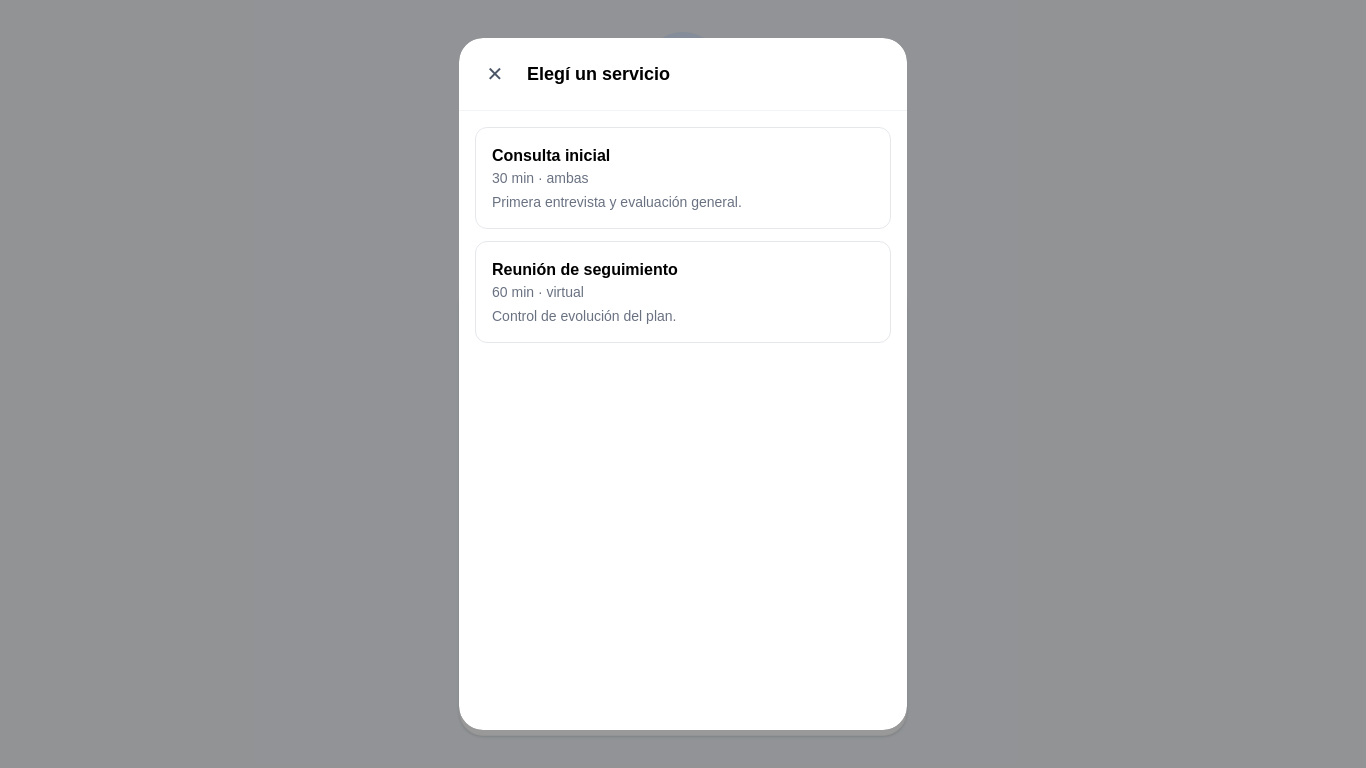
it: AgendaYA - M04 Booking Público › Flujo principal: Permite seleccionar fecha, horario y confirmar reserva
This screenshot has width=1366, height=768.
Expected: the button "Elegí un servicio Cambiar" is shown, [459, 200, 907, 258]
Click the button with test id "service-option" that starts with "Consulta inicial".
click(551, 156)  # box [475, 127, 891, 229]
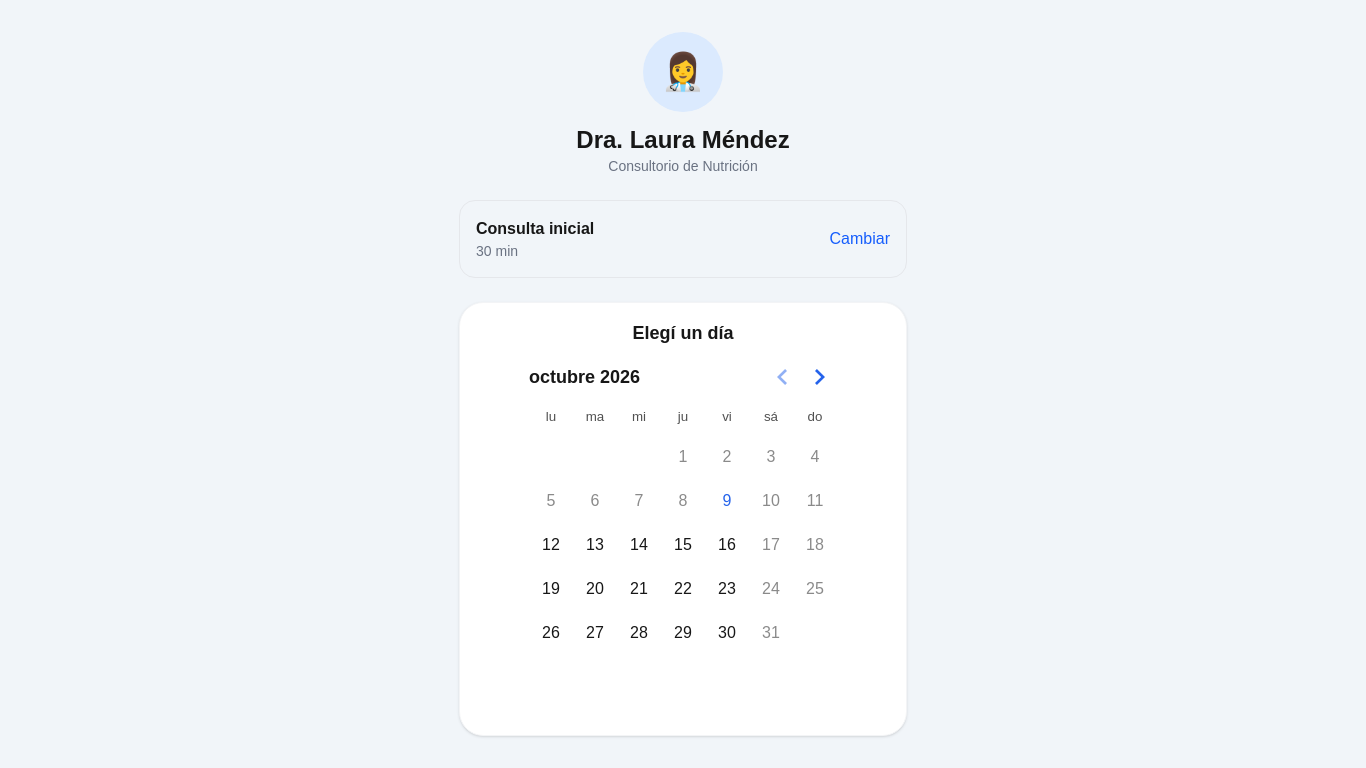
Click the button "13".
click(595, 545)  # box [573, 523, 617, 567]
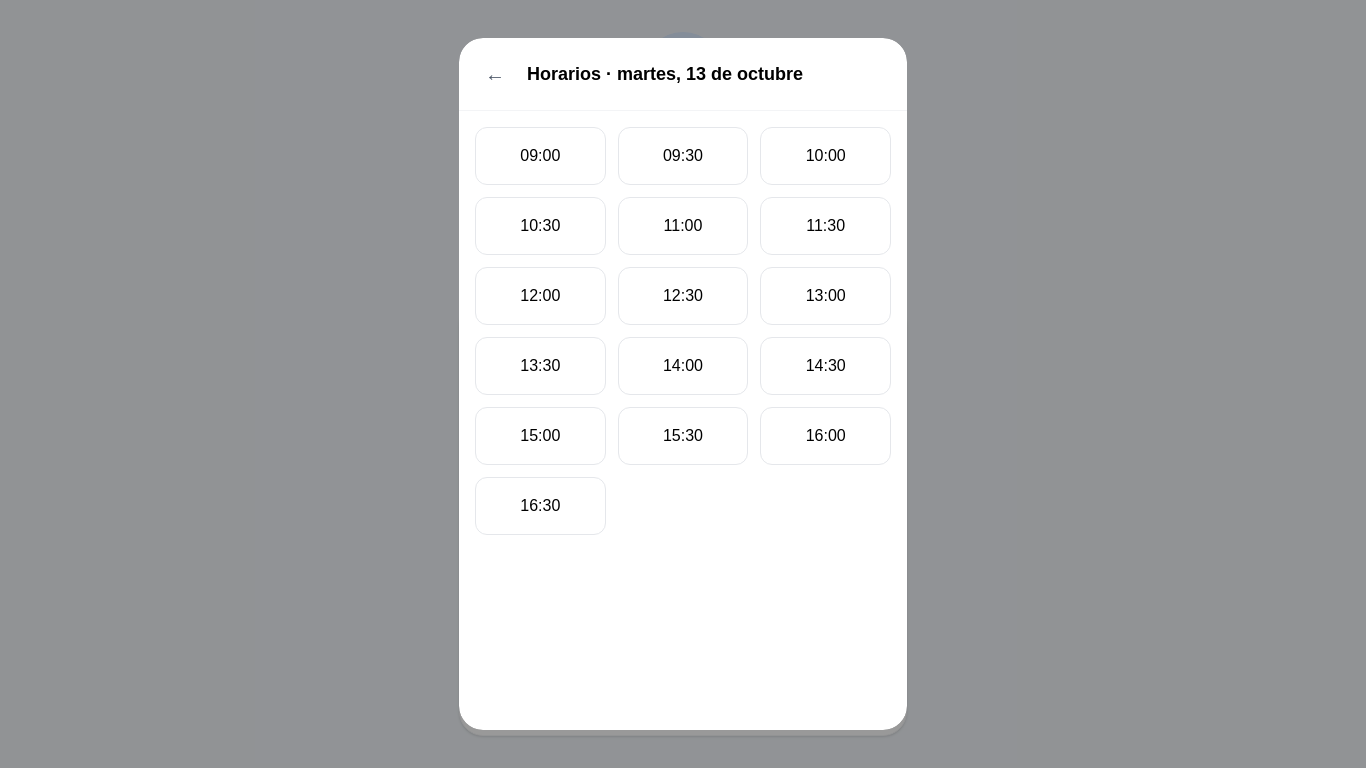
Note: Elegir el primer horario disponible
Click the button with test id "time-slot".
click(541, 156)  # box [475, 127, 606, 185]
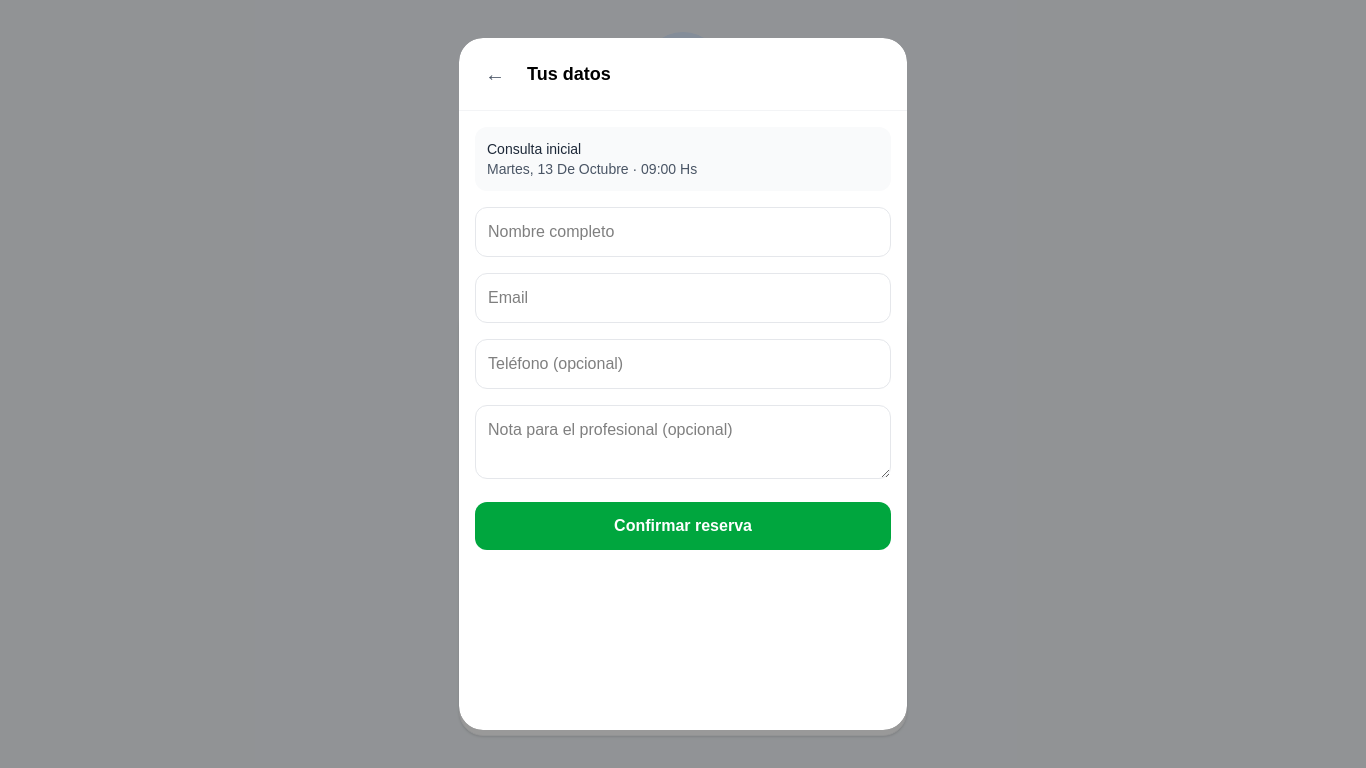
Result: the element with test id "booking-form" is shown at [475, 207, 891, 550]
Type "Carolina Pérez" into the field with test id "name-input".
click(683, 232); type("Carolina Pérez")  # box [475, 207, 891, 257]
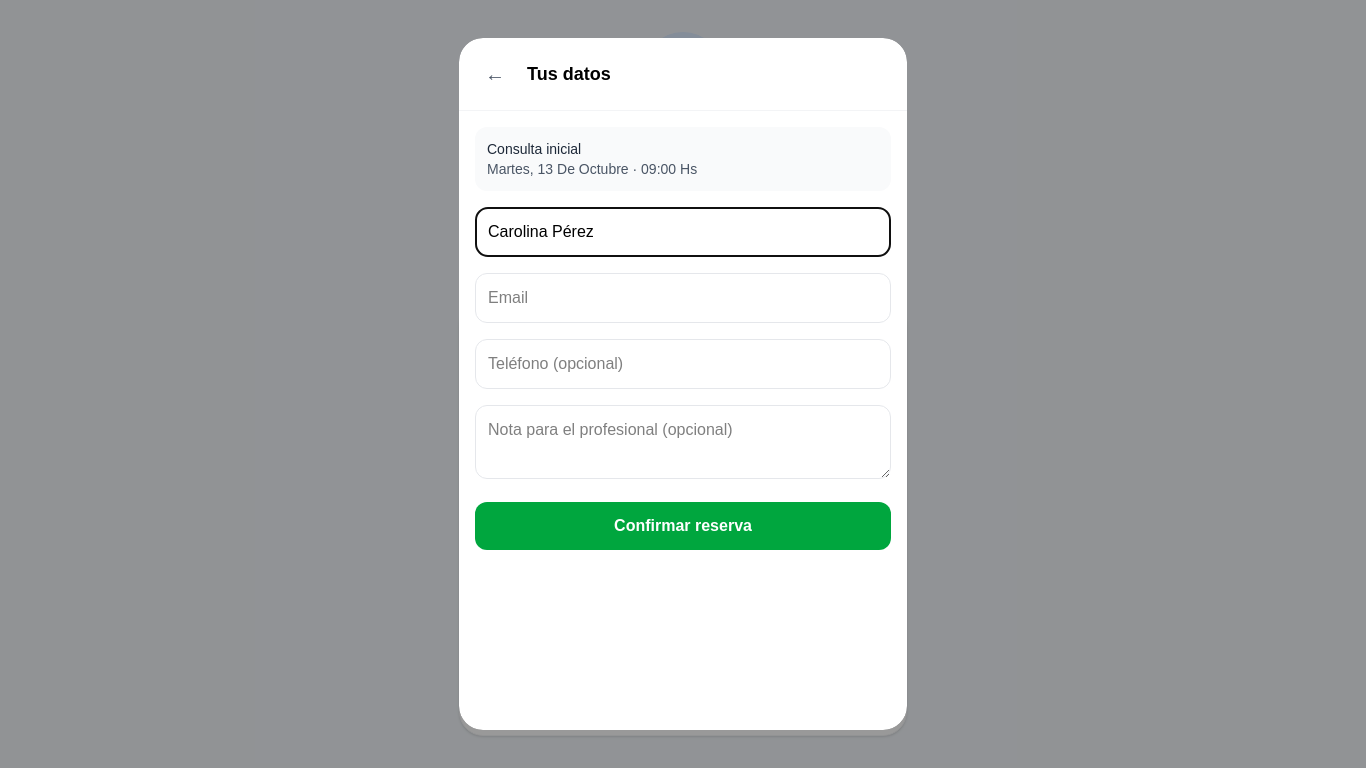
Type "usuario@test.com" into the field with test id "email-input".
click(683, 298); type("usuario@test.com")  # box [475, 273, 891, 323]
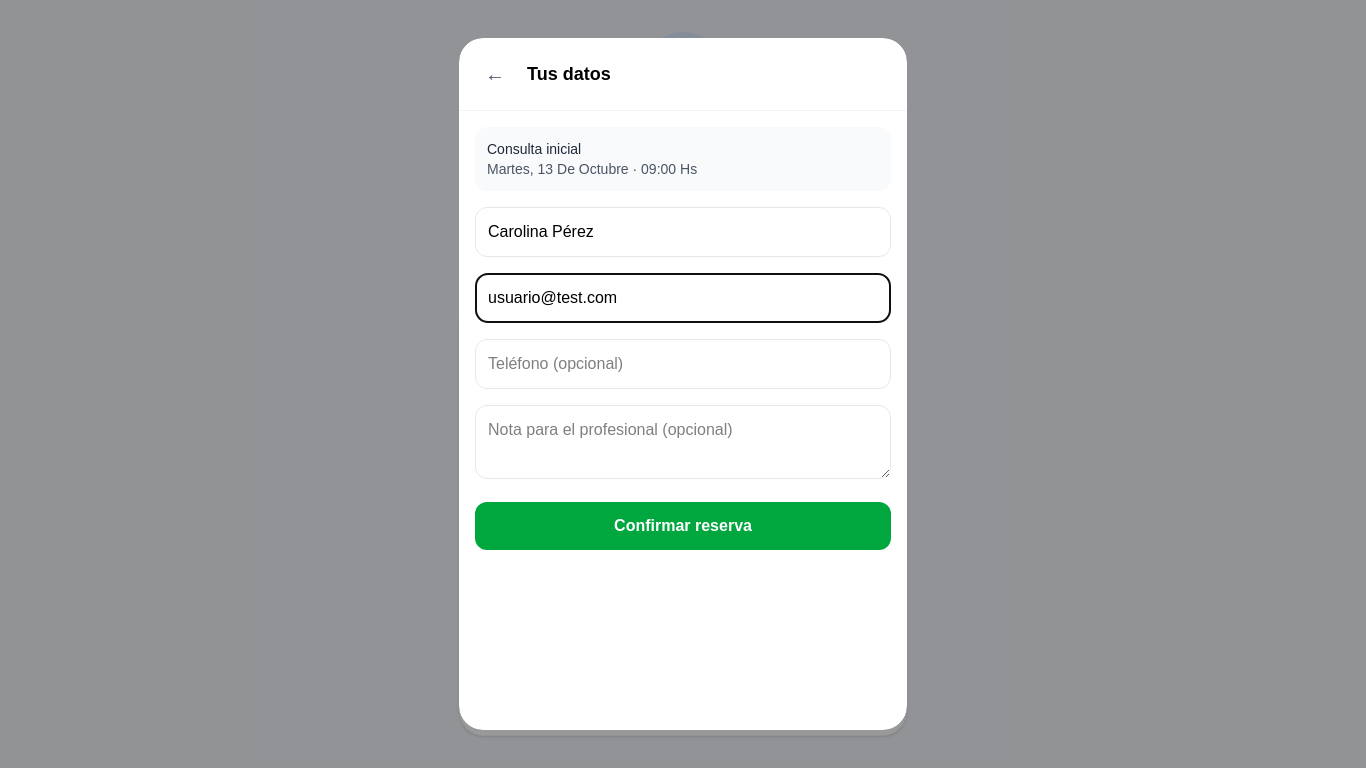
Note: Confirmar reserva
Click the button with test id "submit-booking".
click(683, 526)  # box [475, 502, 891, 550]
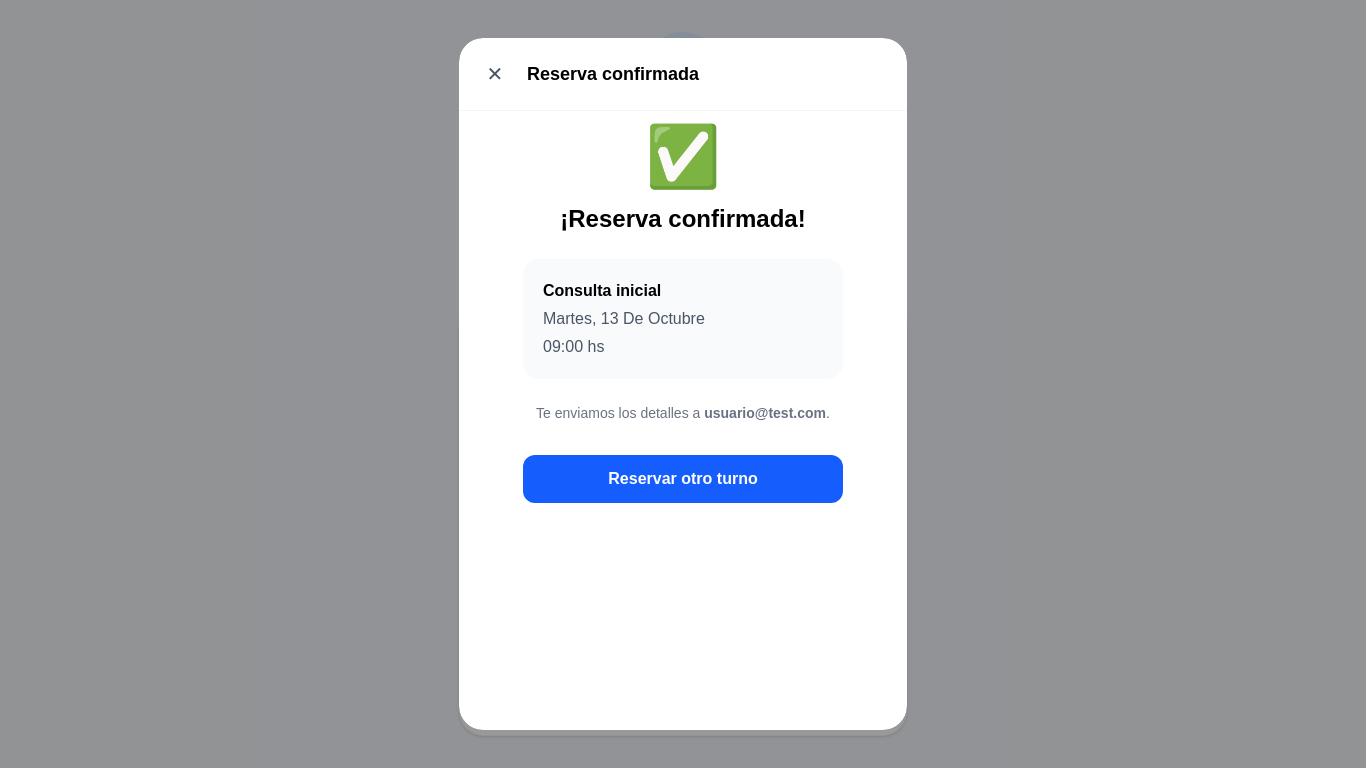
Result: the element with test id "booking-confirmation" is shown at [523, 123, 843, 503]
